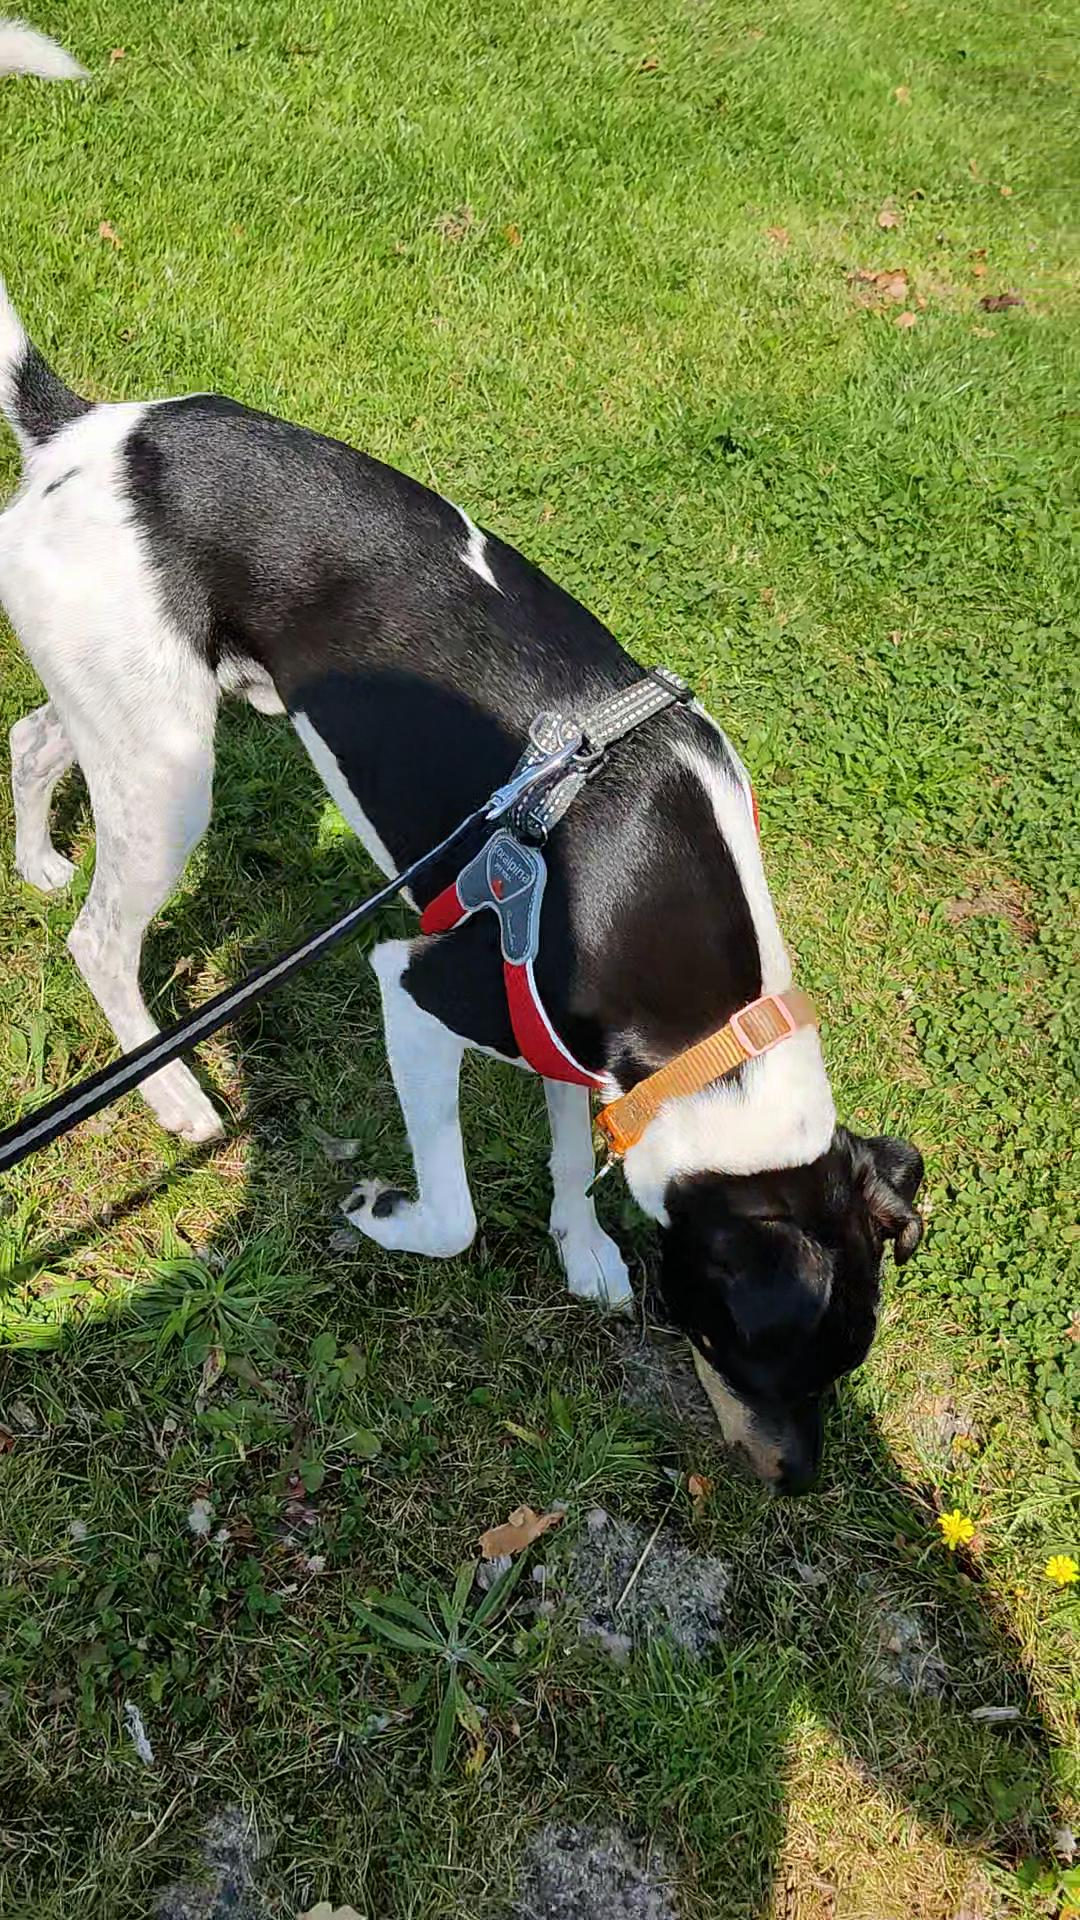Dog: (0, 5, 938, 1505)
